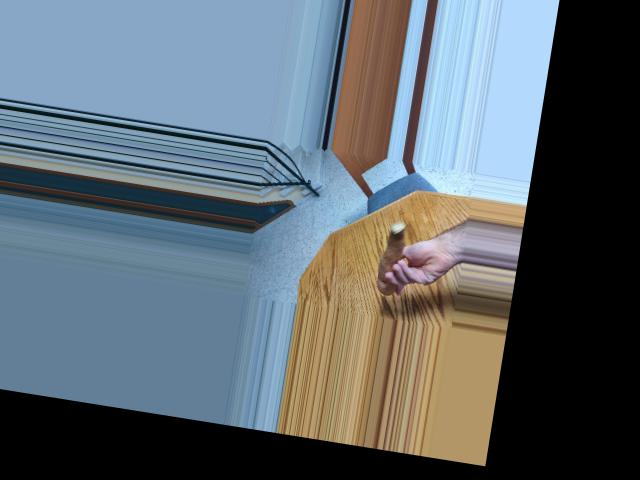sweet_potato: (374, 218, 414, 295)
